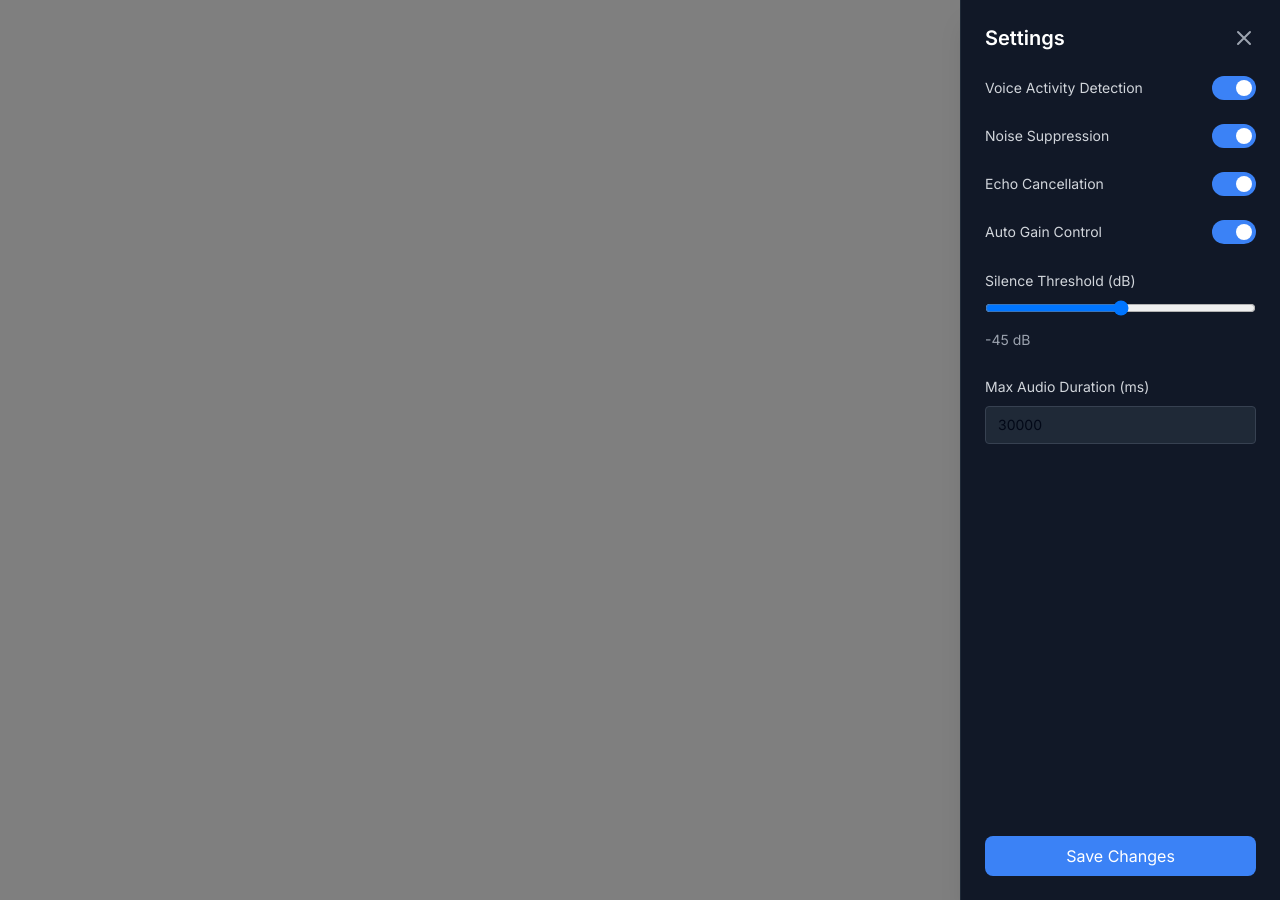
Scenario: SettingsPanel › updates slider value
This screenshot has width=1280, height=900.
Set the slider to "-50" at coordinates (1078, 308), box [985,300,1256,316]
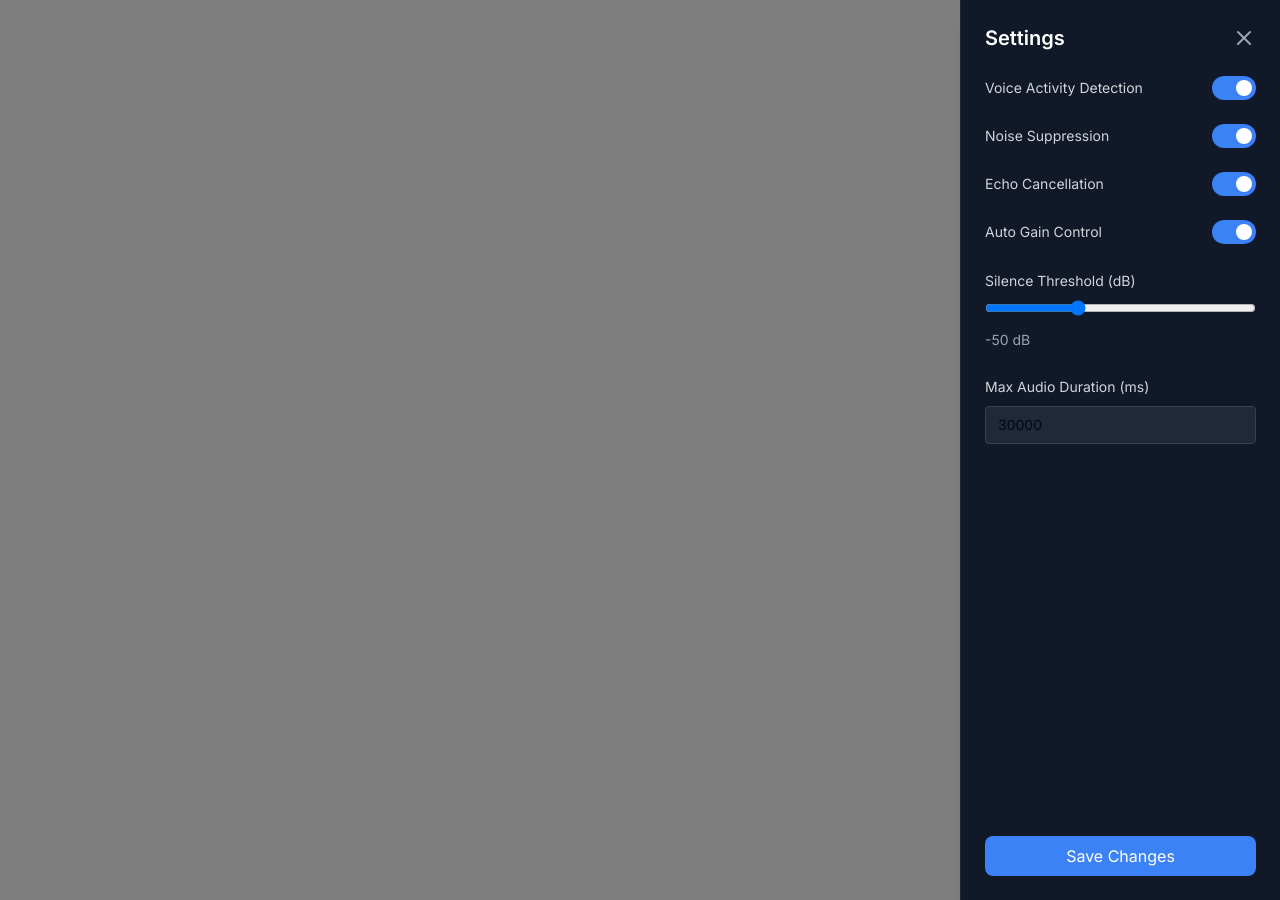
expect the text "-50 dB" is shown: met, box [985,331,1030,348]
